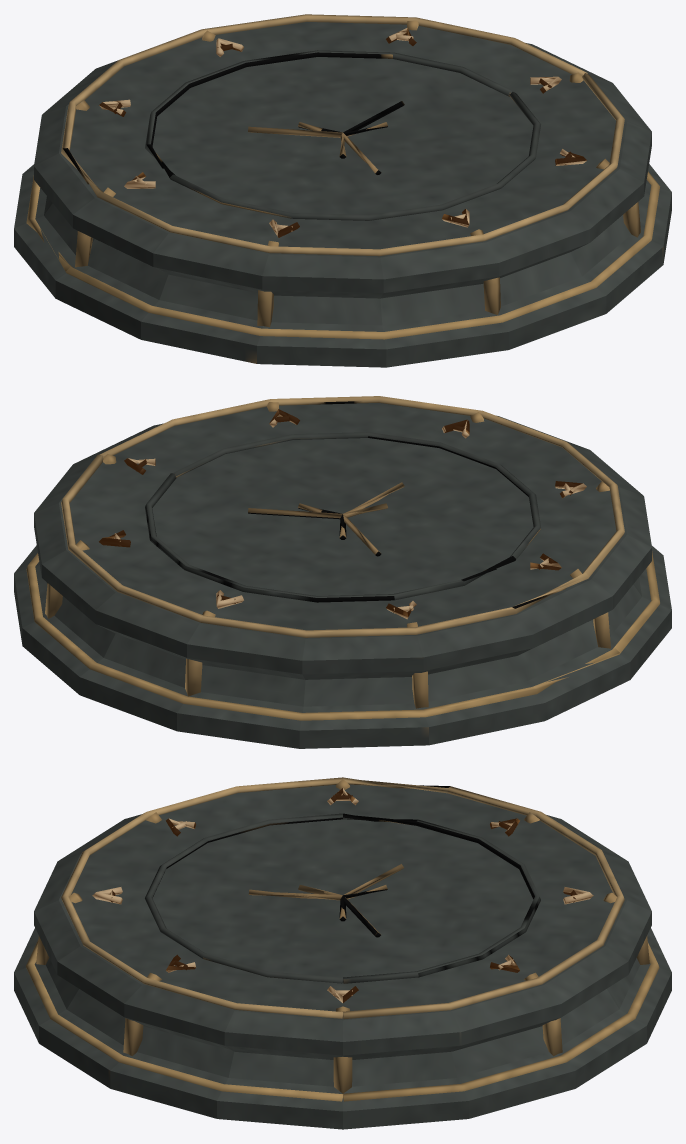
File: pedestal-mobile.glb
3 views of the same model, one above another, from view 1: azimuth 30°, elevation 25°; view 2: azimuth 150°, elevation 25°; view 3: azimuth 270°, elevation 25° (orthographic).
Visible parts, largest first — view 1: pedestal_0, pedestal_1, pedestal_2; view 2: pedestal_0, pedestal_1, pedestal_2; view 3: pedestal_0, pedestal_1, pedestal_2.
Boxes of the visible parts, <box> form: pedestal_0: <box>14,22,671,367</box>; pedestal_1: <box>26,14,660,339</box>; pedestal_2: <box>99,28,586,237</box>; pedestal_0: <box>14,403,671,748</box>; pedestal_1: <box>26,396,659,720</box>; pedestal_2: <box>99,409,586,619</box>; pedestal_0: <box>14,784,671,1129</box>; pedestal_1: <box>26,777,659,1101</box>; pedestal_2: <box>92,788,593,1002</box>.
Size of the model in its own units: 1.32 by 0.243 by 1.32.
Materials: 3 (3 with a texture image).
